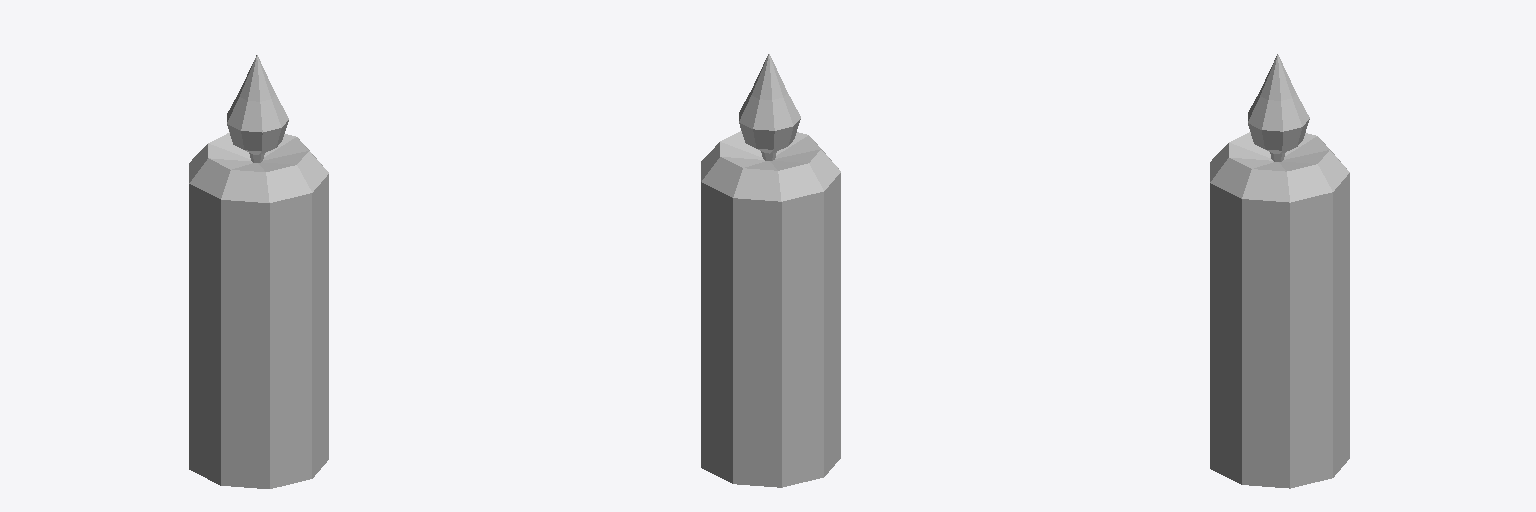
The model's file is candle_lit.obj.
3 views of the same model, side by side, from view 1: azimuth 30°, elevation 25°; view 2: azimuth 150°, elevation 25°; view 3: azimuth 270°, elevation 25° (orthographic).
Parts seen in each view (by area): view 1: candle_lit; view 2: candle_lit; view 3: candle_lit.
Boxes of the visible parts, x1=… form: candle_lit: x1=189, y1=55, x2=328, y2=488; candle_lit: x1=701, y1=54, x2=840, y2=487; candle_lit: x1=1210, y1=54, x2=1349, y2=488.
Size of the model in its own units: 0.3344 by 1.05 by 0.3293.